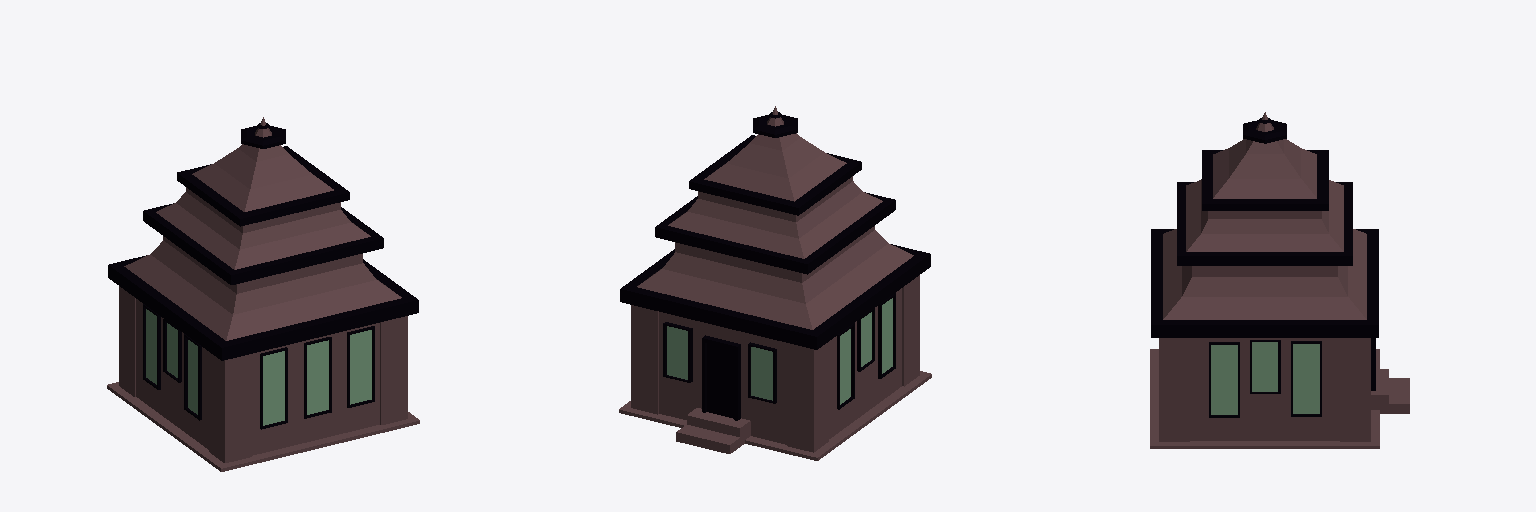
Rendered from House_B.obj.
The picture shows the model from 3 angles: view 1: azimuth 30°, elevation 25°; view 2: azimuth 150°, elevation 25°; view 3: azimuth 270°, elevation 25°; orthographic projection.
Parts seen in each view (by area): view 1: House_B; view 2: House_B; view 3: House_B.
Boxes of the visible parts, <box> form: House_B: <box>107,117,419,471</box>; House_B: <box>619,106,931,460</box>; House_B: <box>1150,112,1409,448</box>.
Bounding box in the file's own units: 11.37 × 15.79 × 12.85.